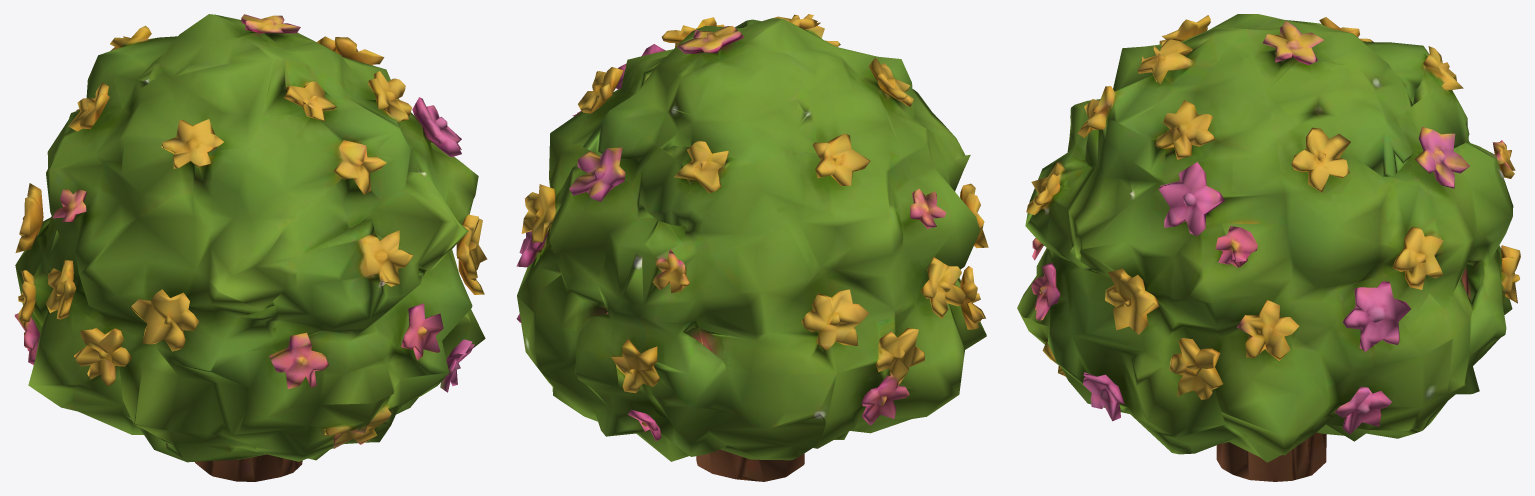
Rendered from bush.glb.
3 renders of one model, left to right at view 1: azimuth 30°, elevation 25°; view 2: azimuth 150°, elevation 25°; view 3: azimuth 270°, elevation 25°, orthographic.
Parts seen in each view (by area): view 1: tripo_node_97515156-e250-4d7e-b0f7-fdfb6ca0c742; view 2: tripo_node_97515156-e250-4d7e-b0f7-fdfb6ca0c742; view 3: tripo_node_97515156-e250-4d7e-b0f7-fdfb6ca0c742.
Part boxes in pixels (x1,y1,x2,y2): tripo_node_97515156-e250-4d7e-b0f7-fdfb6ca0c742: [14, 14, 487, 481]; tripo_node_97515156-e250-4d7e-b0f7-fdfb6ca0c742: [516, 14, 988, 481]; tripo_node_97515156-e250-4d7e-b0f7-fdfb6ca0c742: [1017, 14, 1520, 481].
Size of the model in its own units: 0.9947 by 0.9593 by 0.9948.
1 material, 1 textured.
